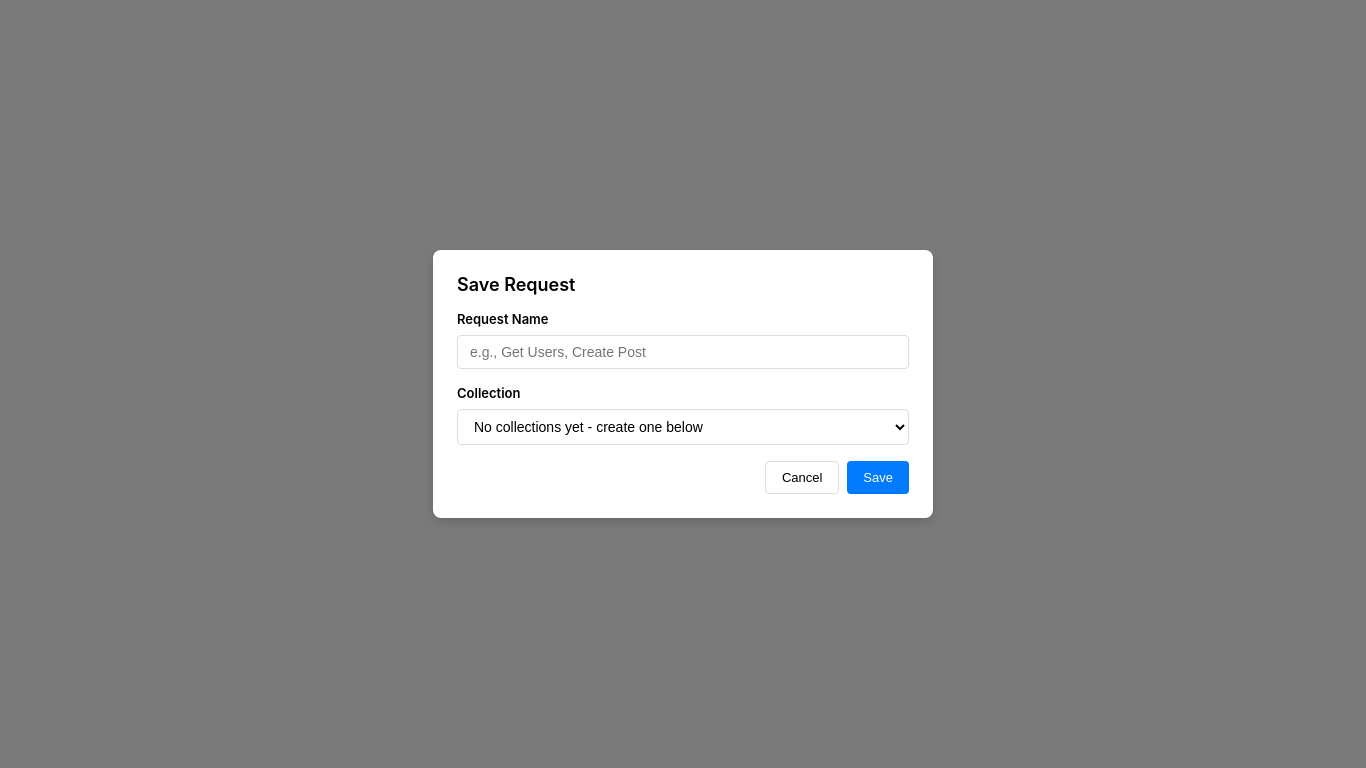
Test: SaveRequestDialog › Collection selection › should show error when no collection is selected
This screenshot has width=1366, height=768.
Type "Test Request" into the field labelled "Request Name".
click(683, 352); type("Test Request")  # box [457, 335, 909, 369]
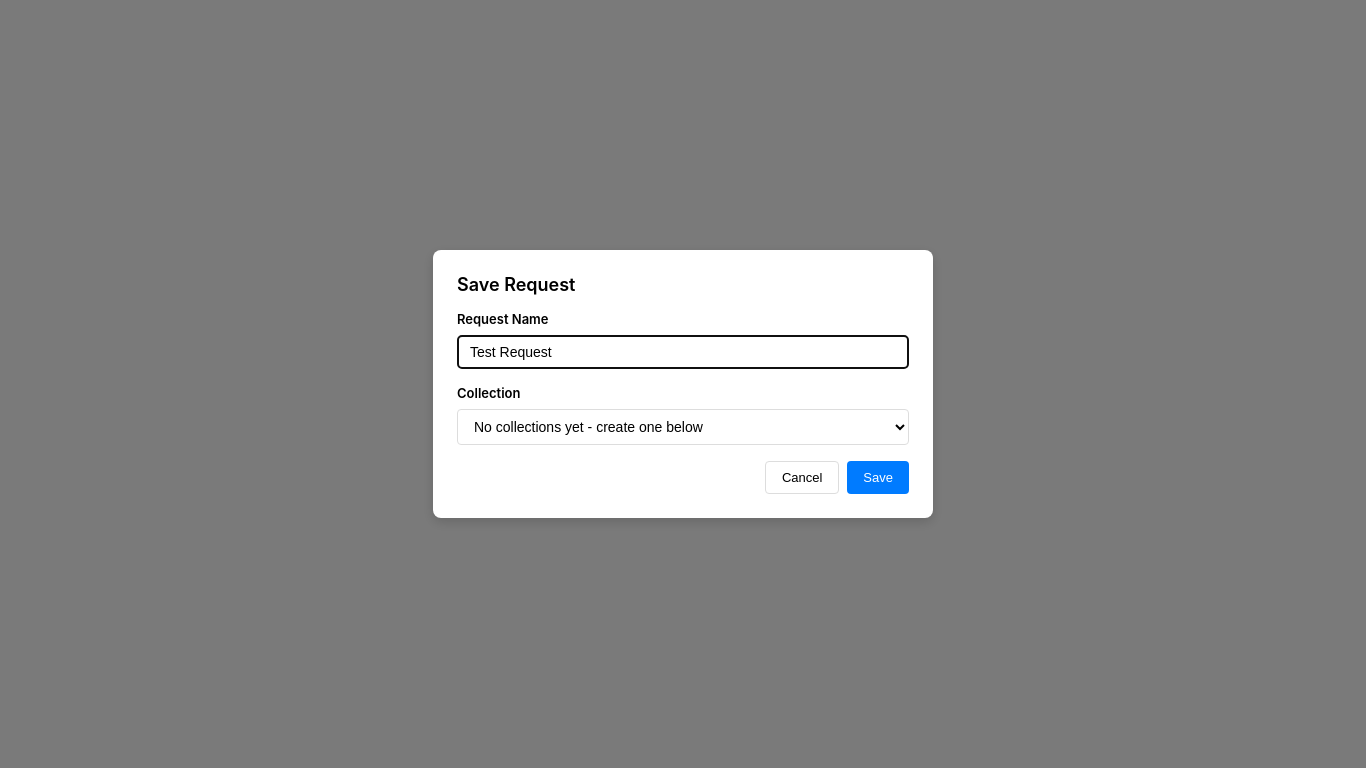
Click the button "Save".
click(878, 478)  # box [847, 461, 909, 494]
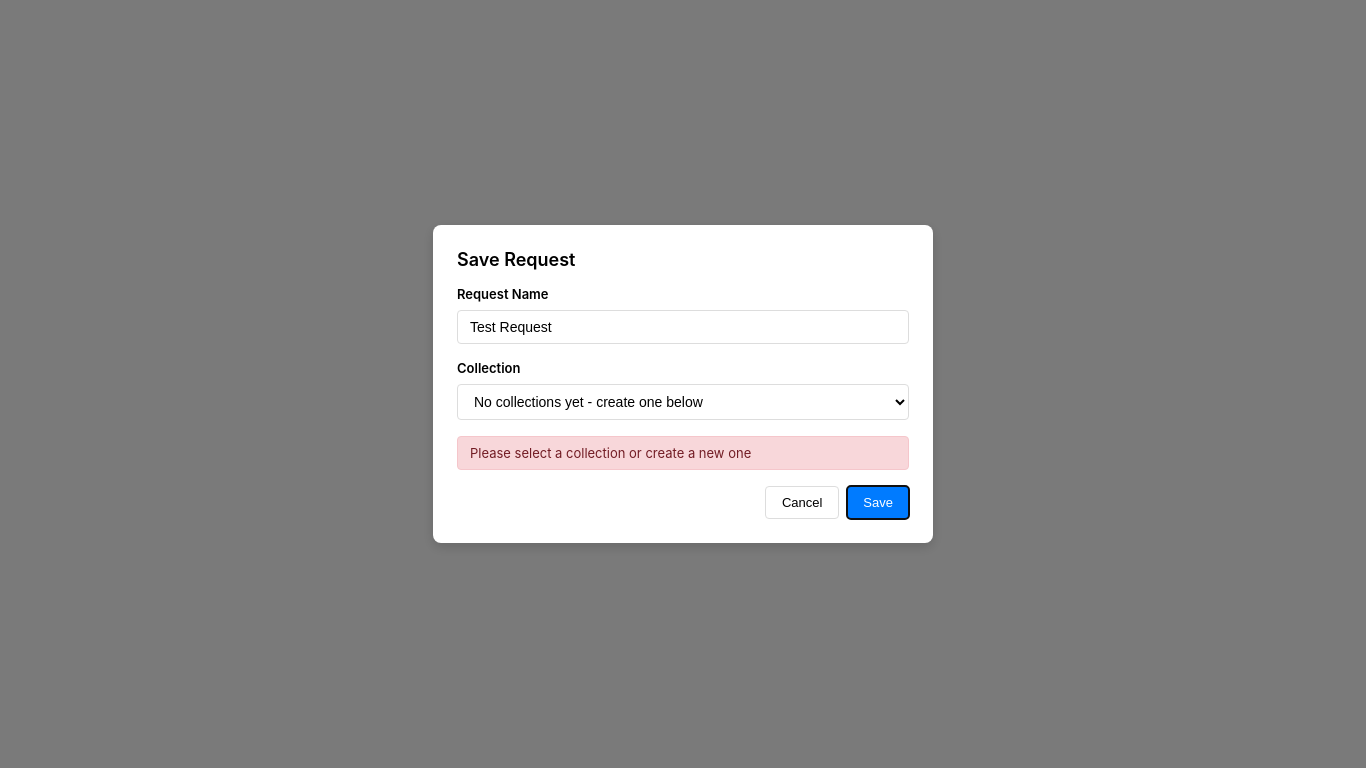
Expected: the text "Please select a collection or create a new one" is shown, [457, 436, 909, 470]
